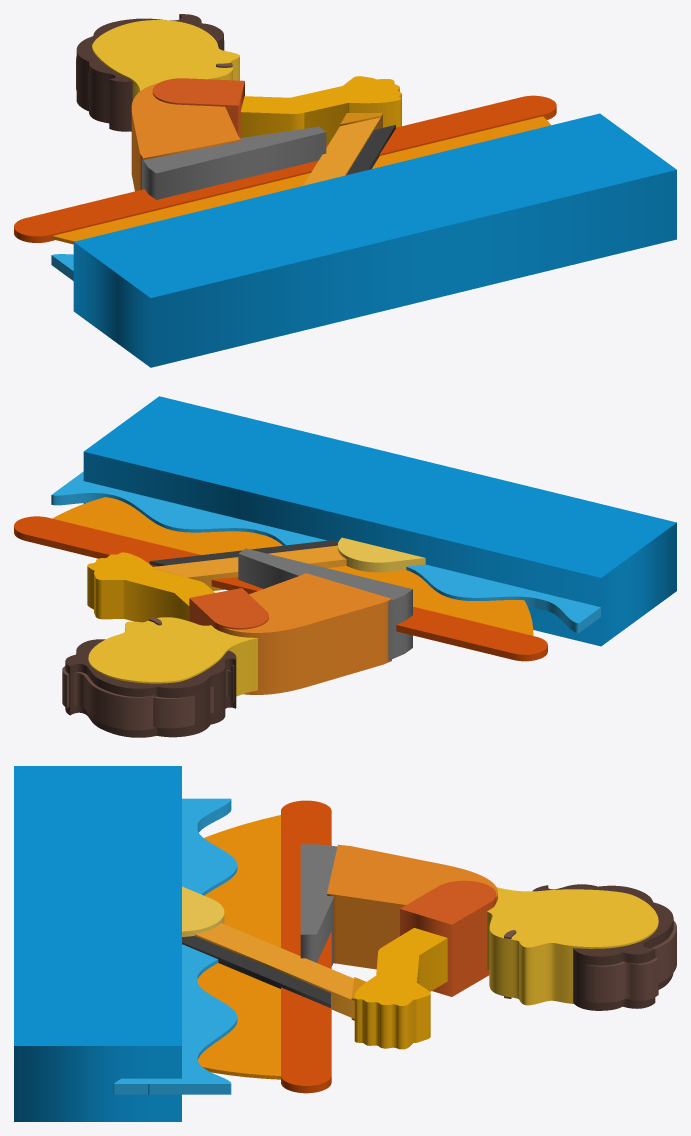
Rendered from emoji_u1f6a3.glb.
The picture shows the model from 3 angles, top to bottom: view 1: azimuth 30°, elevation 25°; view 2: azimuth 150°, elevation 25°; view 3: azimuth 270°, elevation 25°; orthographic projection. The views are drawn at different scales.
Parts seen in each view (by area): view 1: emoji_u1f6a3; view 2: emoji_u1f6a3; view 3: emoji_u1f6a3.
Part boxes in pixels (x1,y1,x2,y2): emoji_u1f6a3: (14,14,676,367); emoji_u1f6a3: (14,396,676,737); emoji_u1f6a3: (14,766,676,1121).
Size of the model in its own units: 0.0339 by 0.0042 by 0.0332.
